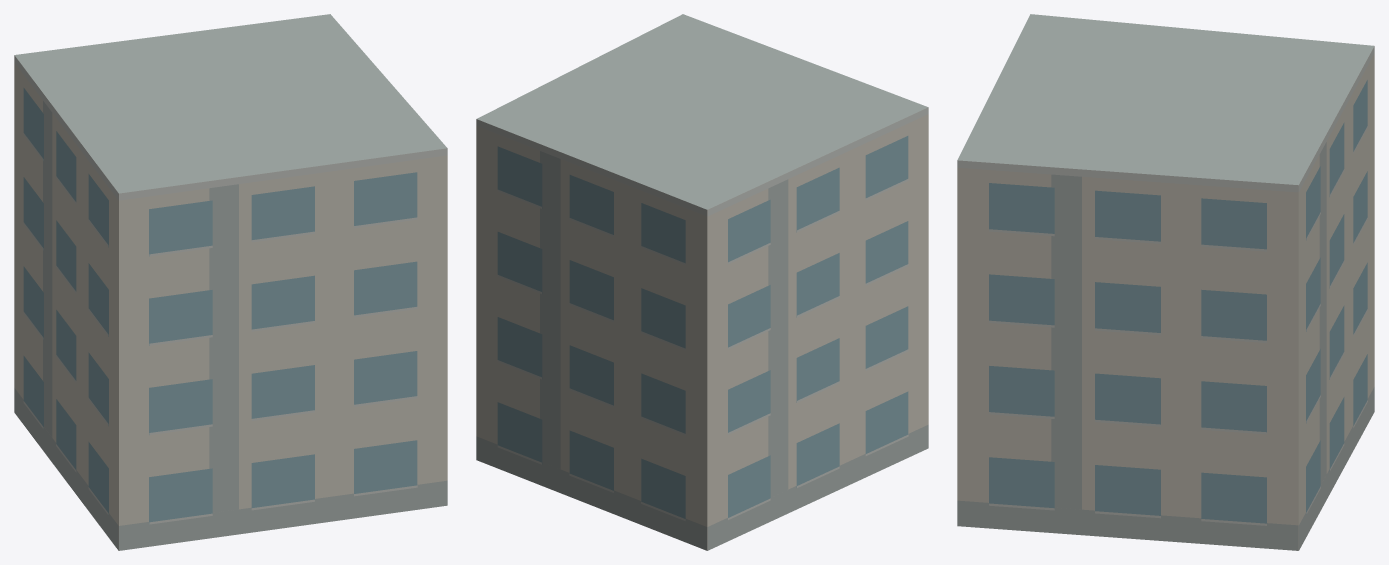
File: survey-upis-32701053.glb
3 renders of one model, left to right at view 1: azimuth 30°, elevation 25°; view 2: azimuth 150°, elevation 25°; view 3: azimuth 270°, elevation 25°, orthographic. The views are drawn at different scales.
Parts seen in each view (by area): view 1: survey-upis-32701053.tmp; view 2: survey-upis-32701053.tmp; view 3: survey-upis-32701053.tmp.
Part boxes in pixels (x1=…): survey-upis-32701053.tmp: x1=14, y1=14, x2=447, y2=550; survey-upis-32701053.tmp: x1=476, y1=14, x2=928, y2=550; survey-upis-32701053.tmp: x1=957, y1=14, x2=1374, y2=550.
Bounding box in the file's own units: 12.26 × 12.2 × 12.63.
